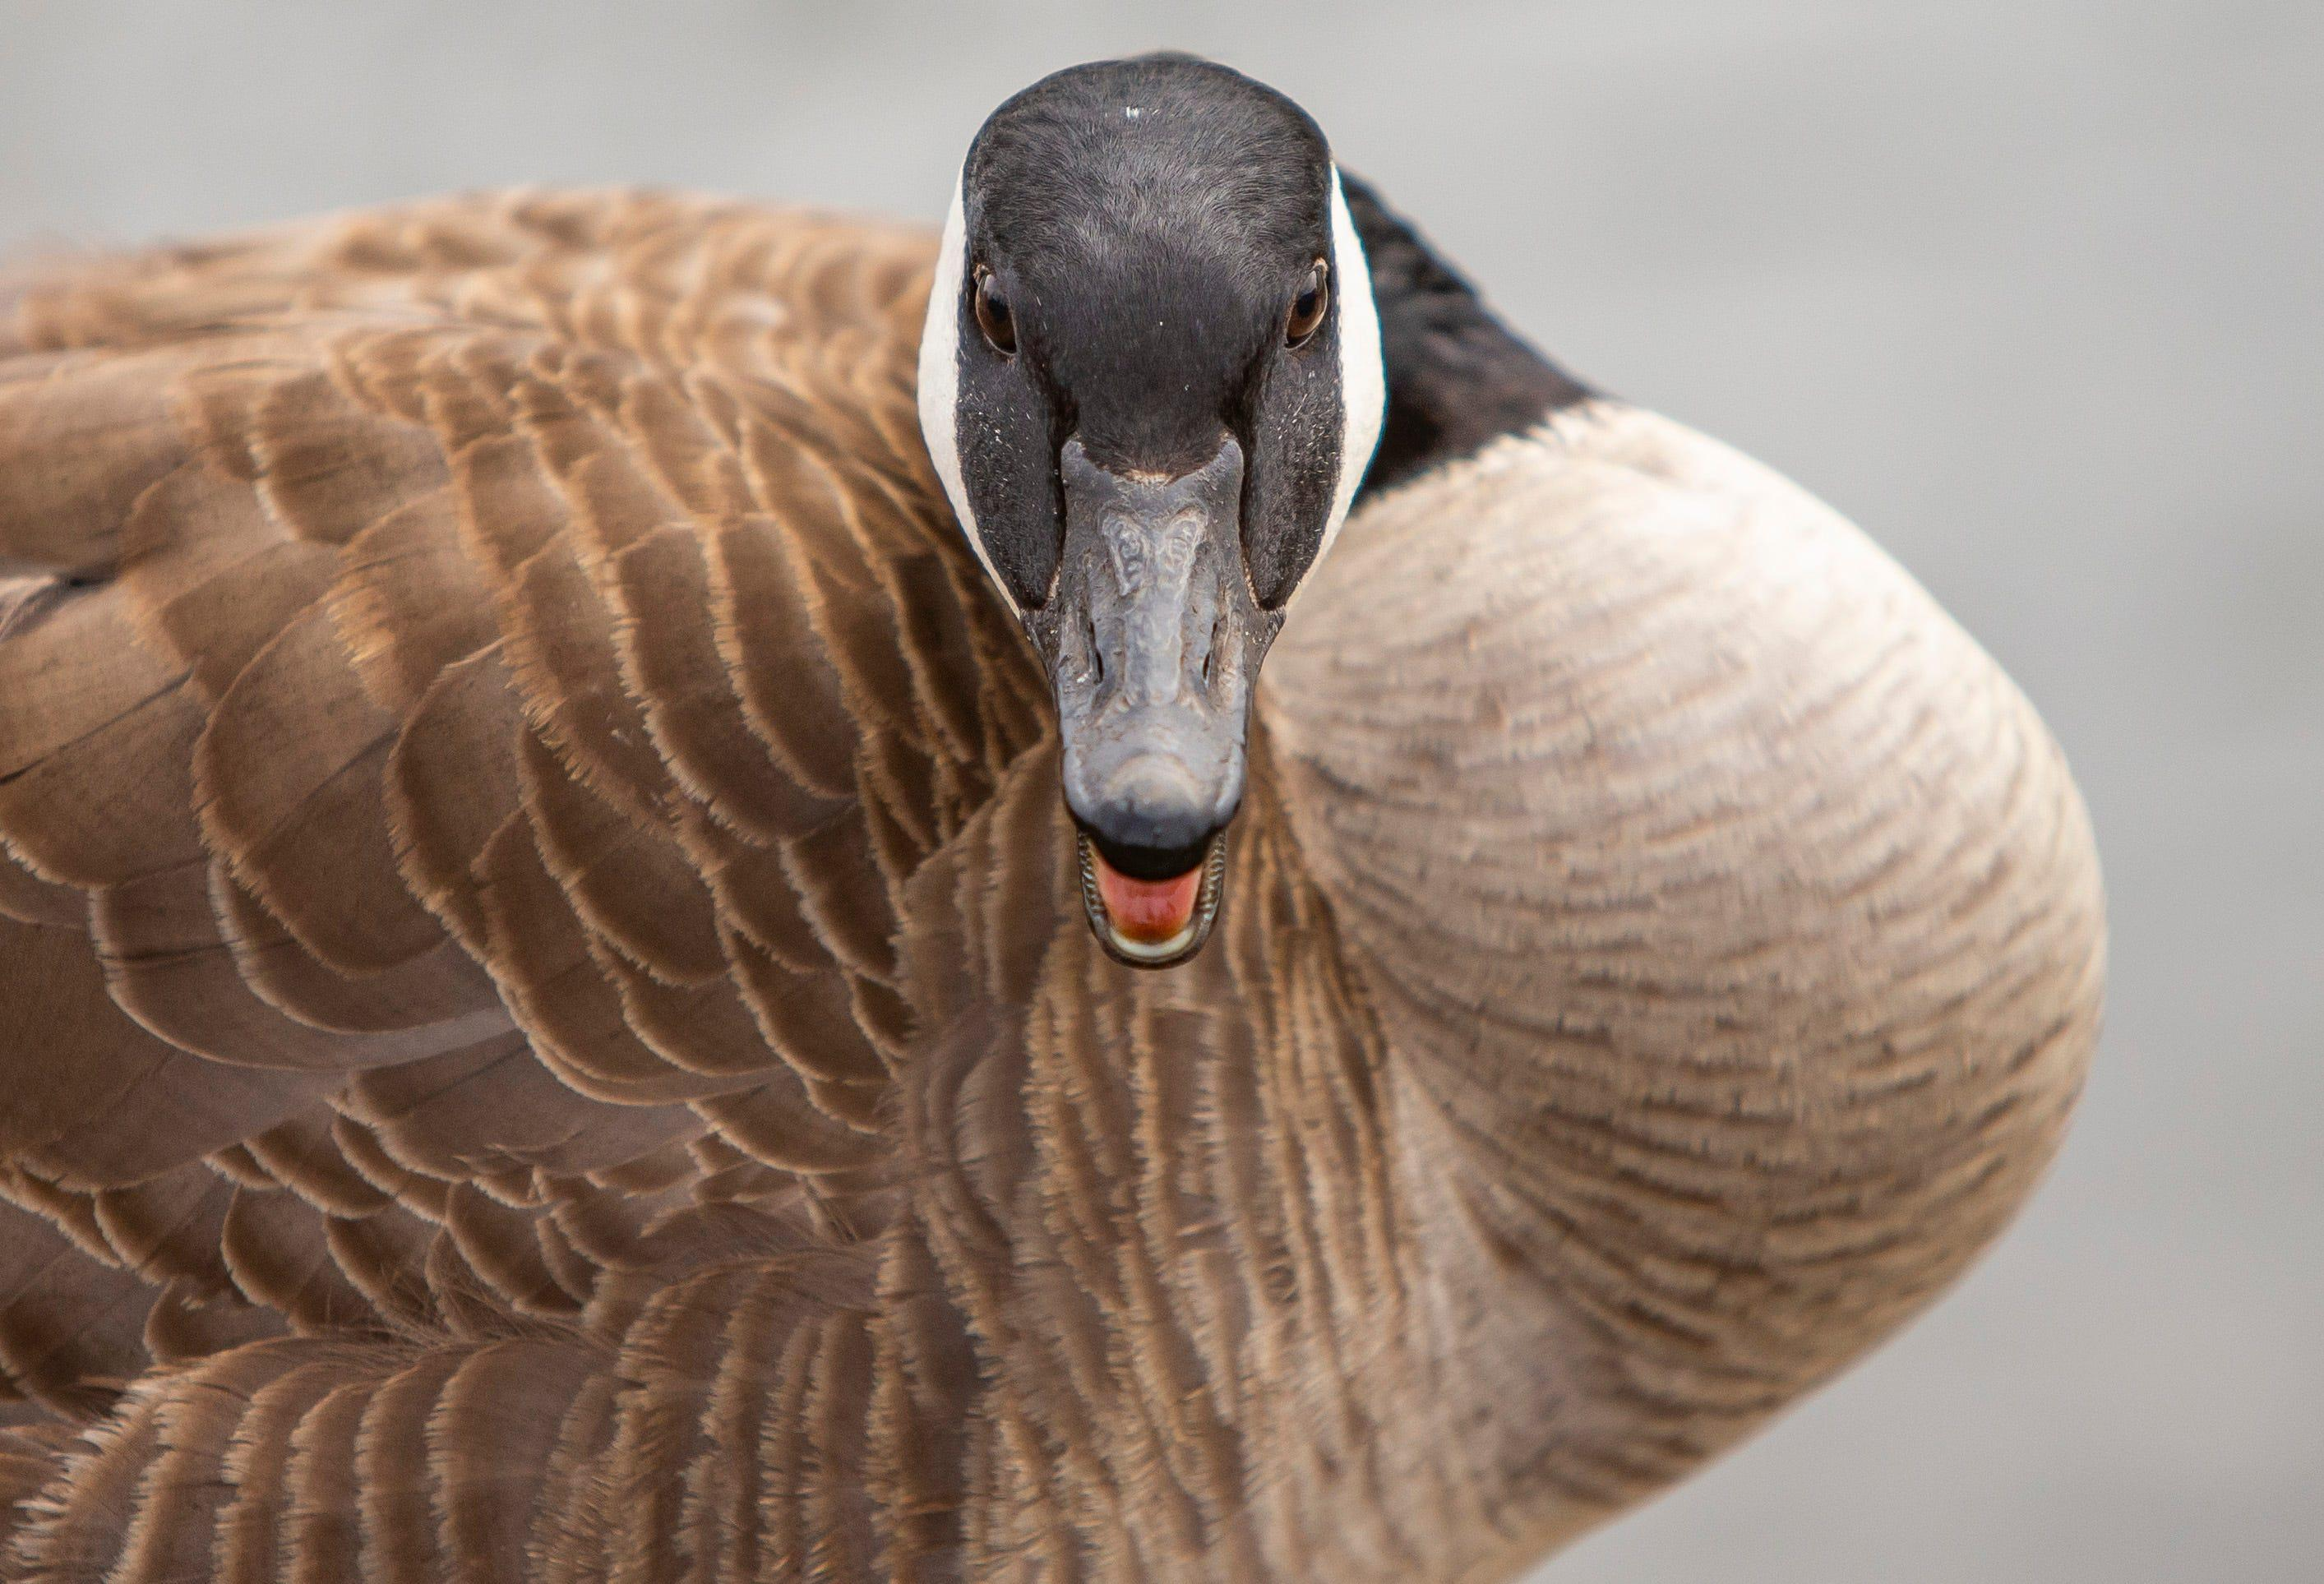Canadian-Goose: (4, 51, 2105, 1584)
